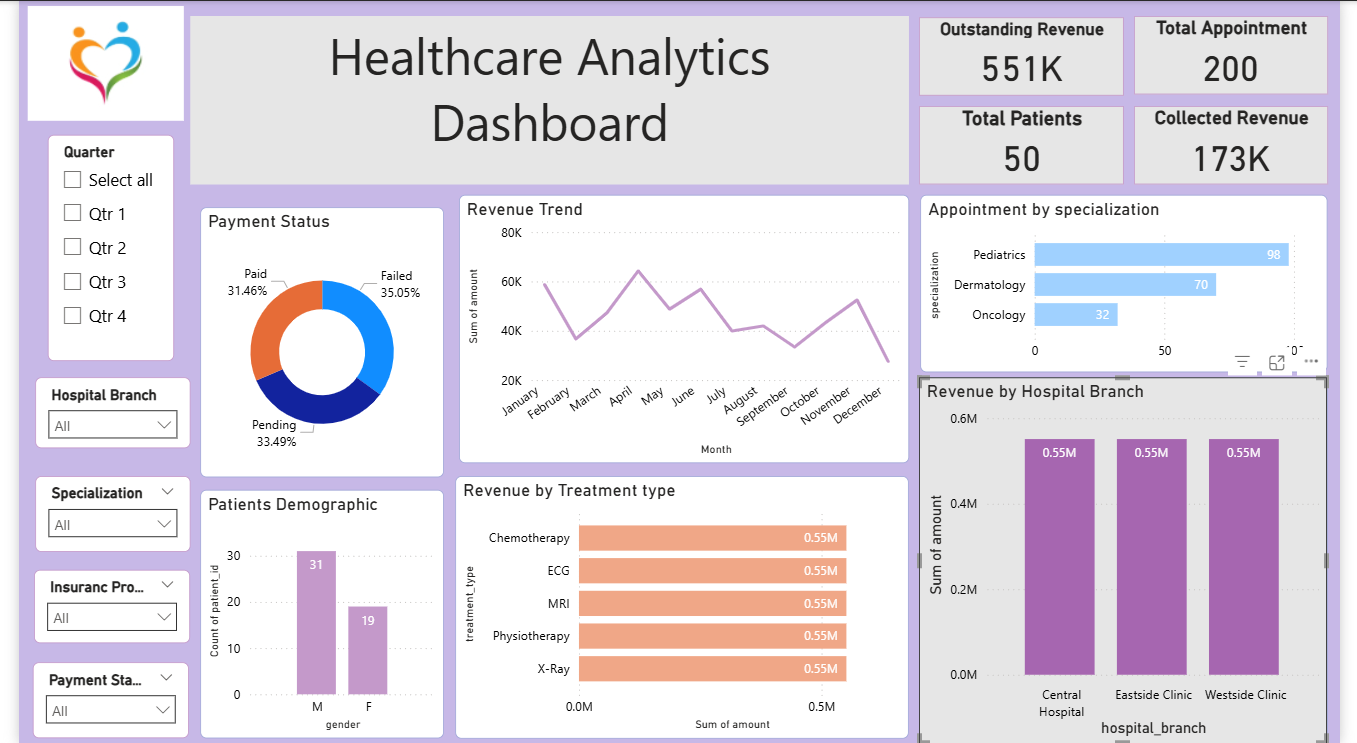

The dashboard page shown, as its layout file describes it:
{"tool":"powerbi","page":{"name":"Page 1","canvas":[1280,720],"ordinal":0},"visuals":[{"type":"card","title":"Collected Revenue","fields":{"Values":["Sum(billing.amount)"]},"box":[1079.8,101.7,187.6,76.3],"z":0},{"type":"card","title":"Total Appointment","fields":{"Values":["CountNonNull(appointments.appointment_id)"]},"box":[1079.8,14.5,187.6,76.3],"z":1000},{"type":"card","title":"Total Patients","fields":{"Values":["Count(patients.patient_id)"]},"box":[871.6,101.7,198.5,76.3],"z":2000},{"type":"slicer","fields":{"Values":["billing.bill_date.Variation.Date Hierarchy.Quarter"]},"box":[27.8,129.5,122.3,219.1],"z":3000},{"type":"slicer","fields":{"Values":["doctors.hospital_branch"]},"box":[15.7,364.4,150.1,69],"z":4000},{"type":"slicer","fields":{"Values":["doctors.specialization"]},"box":[15.7,460,150.1,73.8],"z":5000},{"type":"slicer","fields":{"Values":["billing.payment_status"]},"box":[13.3,640.4,151.3,73.8],"z":6000},{"type":"slicer","fields":{"Values":["patients.insurance_provider"]},"box":[14.5,550.8,151.3,71.4],"z":7000},{"type":"lineChart","title":"Revenue Trend","fields":{"Category":["billing.bill_date.Variation.Date Hierarchy.Month"],"Y":["Sum(billing.amount)"]},"box":[426.1,187.6,435.8,260.3],"z":8000},{"type":"clusteredBarChart","title":"Appointment by specialization","fields":{"Category":["doctors.specialization"],"Y":["CountNonNull(appointments.appointment_id)"]},"box":[872.8,187.6,394.6,171.9],"z":9000},{"type":"donutChart","title":"Payment Status","fields":{"Category":["billing.payment_status"],"Y":["Sum(billing.amount)"]},"box":[175.5,199.7,236,261.5],"z":10000},{"type":"columnChart","title":"Patients Demographic","fields":{"Category":["patients.gender"],"Y":["Count(patients.patient_id)"]},"box":[175.5,473.3,236,240.9],"z":11000},{"type":"clusteredBarChart","title":"Revenue by Treatment type","fields":{"Category":["treatments.treatment_type"],"Y":["Sum(billing.amount)"]},"box":[422.5,460,439.4,254.2],"z":12000},{"type":"card","title":"Outstanding Revenue","fields":{"Values":["Sum(billing.amount)"]},"box":[871.6,15.7,198.5,76.3],"z":13000},{"type":"columnChart","title":"Revenue by Hospital Branch","fields":{"Category":["doctors.hospital_branch"],"Y":["Sum(billing.amount)"]},"box":[871.6,364.4,395.8,355.9],"z":14000},{"type":"textbox","box":[165.8,14.5,696,163.4],"z":15000},{"type":"image","box":[3.6,0,161,121],"z":16000}]}

Visuals, with their boxes in screenshot pixels (x1, y1, x2, y2), scaled from the page's 1280x720 canvas onto the 1357x743 screenshot:
"Collected Revenue" card: <region>1145, 105, 1344, 184</region>
"Total Appointment" card: <region>1145, 15, 1344, 94</region>
"Total Patients" card: <region>924, 105, 1134, 184</region>
slicer - billing.bill_date.Variation.Date Hierarchy.Quarter: <region>29, 134, 159, 360</region>
slicer - doctors.hospital_branch: <region>17, 376, 176, 447</region>
slicer - doctors.specialization: <region>17, 475, 176, 551</region>
slicer - billing.payment_status: <region>14, 661, 175, 737</region>
slicer - patients.insurance_provider: <region>15, 568, 176, 642</region>
"Revenue Trend" lineChart: <region>452, 194, 914, 462</region>
"Appointment by specialization" clusteredBarChart: <region>925, 194, 1344, 371</region>
"Payment Status" donutChart: <region>186, 206, 436, 476</region>
"Patients Demographic" columnChart: <region>186, 488, 436, 737</region>
"Revenue by Treatment type" clusteredBarChart: <region>448, 475, 914, 737</region>
"Outstanding Revenue" card: <region>924, 16, 1134, 95</region>
"Revenue by Hospital Branch" columnChart: <region>924, 376, 1344, 742</region>
textbox: <region>176, 15, 914, 184</region>
image: <region>4, 0, 175, 125</region>
